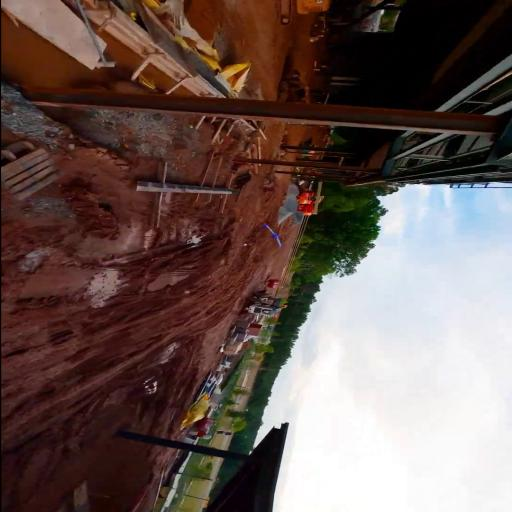uav: (261, 224, 283, 248)
